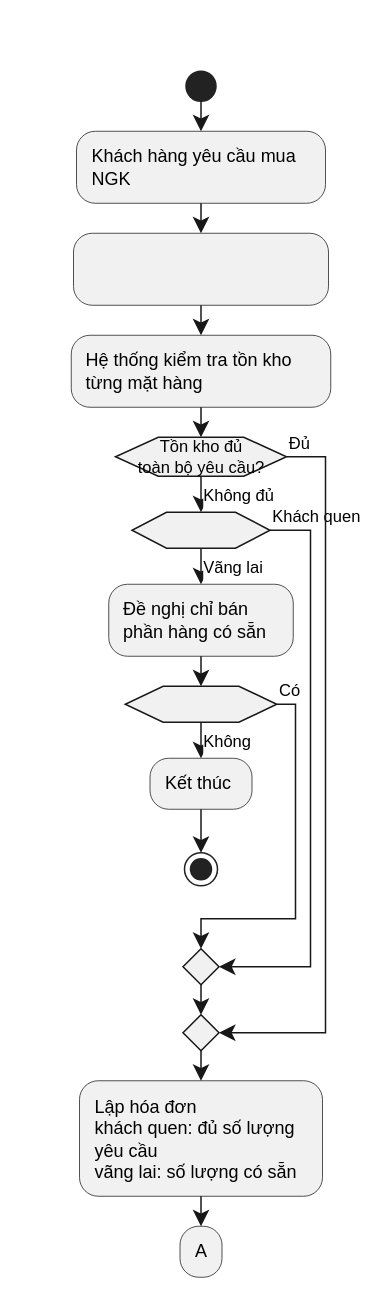
The diagram is 387 pixels wide and 1304 high, and some of its shapes have lost their labels. The shapes that lost their labels are listed below. From the top down, each one's centre as x and y in pixels, then its label:
pixel 200 268: Nhân viên nhập mặt hàng và số lượng yêu cầu
pixel 200 529: Khách quen?
pixel 200 703: Khách đồng ý?
